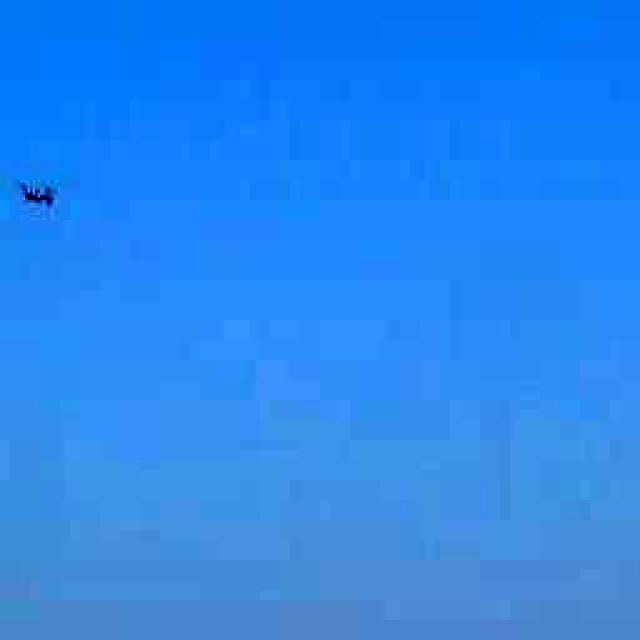bird: (12, 170, 70, 220)
